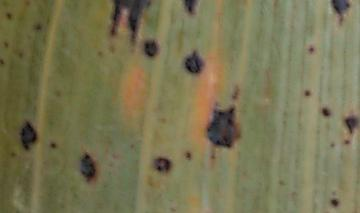tarspot: (109, 1, 152, 45), (204, 103, 242, 148), (330, 1, 351, 27), (20, 122, 38, 150), (184, 50, 205, 73), (81, 152, 95, 181), (153, 157, 171, 173), (143, 40, 159, 57), (344, 116, 360, 133), (183, 1, 200, 16), (231, 85, 241, 102), (322, 108, 332, 118), (4, 10, 13, 20), (34, 22, 43, 32), (184, 150, 192, 161), (331, 198, 339, 207), (96, 50, 105, 58), (49, 141, 57, 149), (342, 138, 350, 146), (9, 151, 17, 158), (308, 46, 315, 54), (304, 89, 311, 97), (18, 51, 25, 58), (210, 153, 216, 161), (4, 42, 10, 48), (329, 142, 335, 148), (1, 58, 6, 65)
